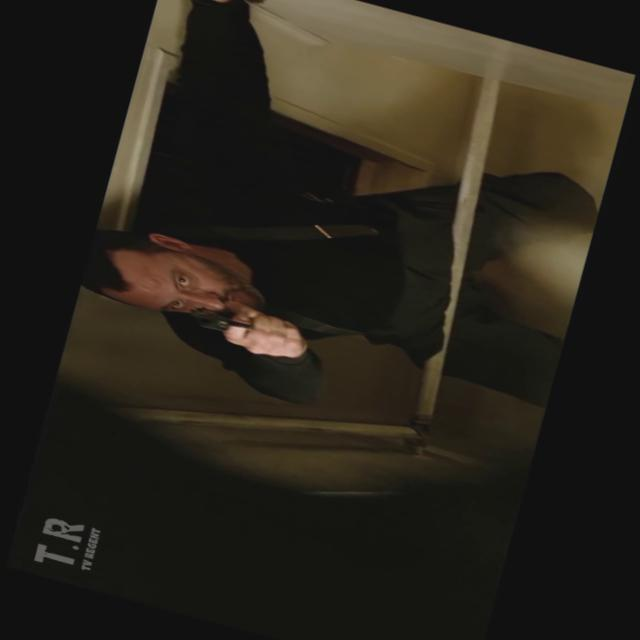handgun: (141, 277, 314, 374)
